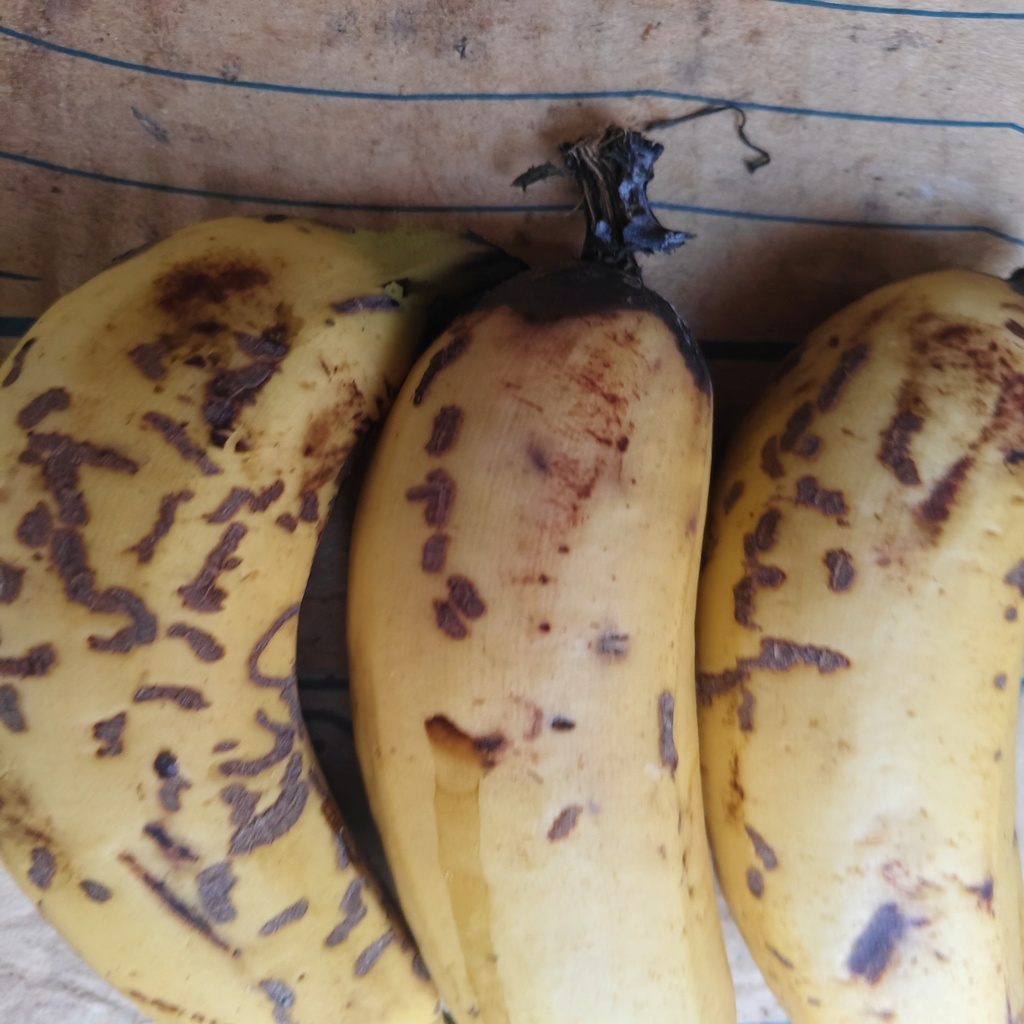unhealthy: (1, 233, 466, 1019), (361, 263, 740, 1020), (712, 269, 1024, 1024)
